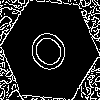O: (25, 25, 79, 83)
